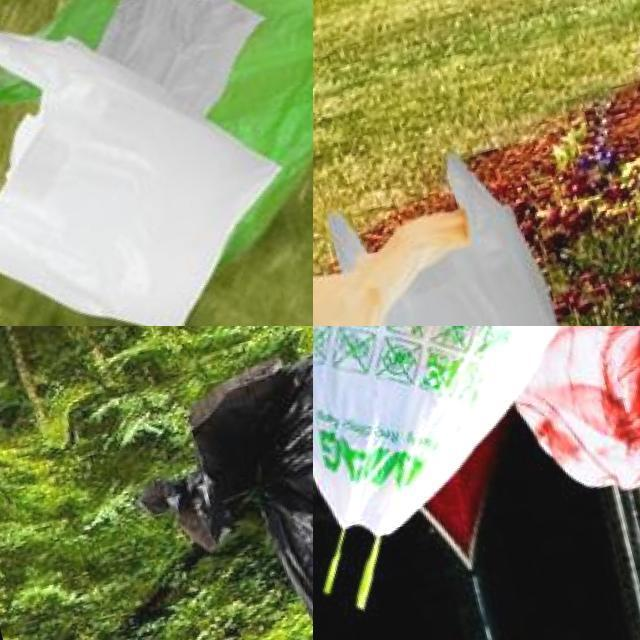waste: (0, 0, 311, 326), (0, 0, 313, 301), (313, 326, 640, 579), (313, 140, 589, 326), (165, 326, 313, 640)
